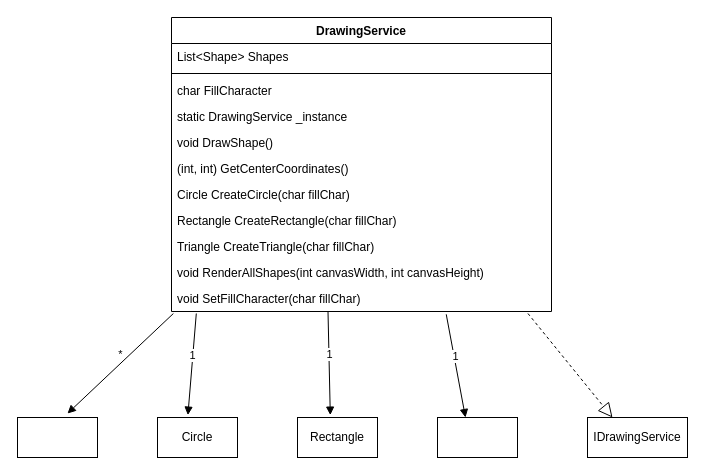
Image size: 705x475. Some labels were removed from this diagram. The box of each missing label's shape, as (x1, y1, x2, y2) in pixels:
Shape: (16, 416, 98, 458)
Triangle: (436, 416, 518, 458)
